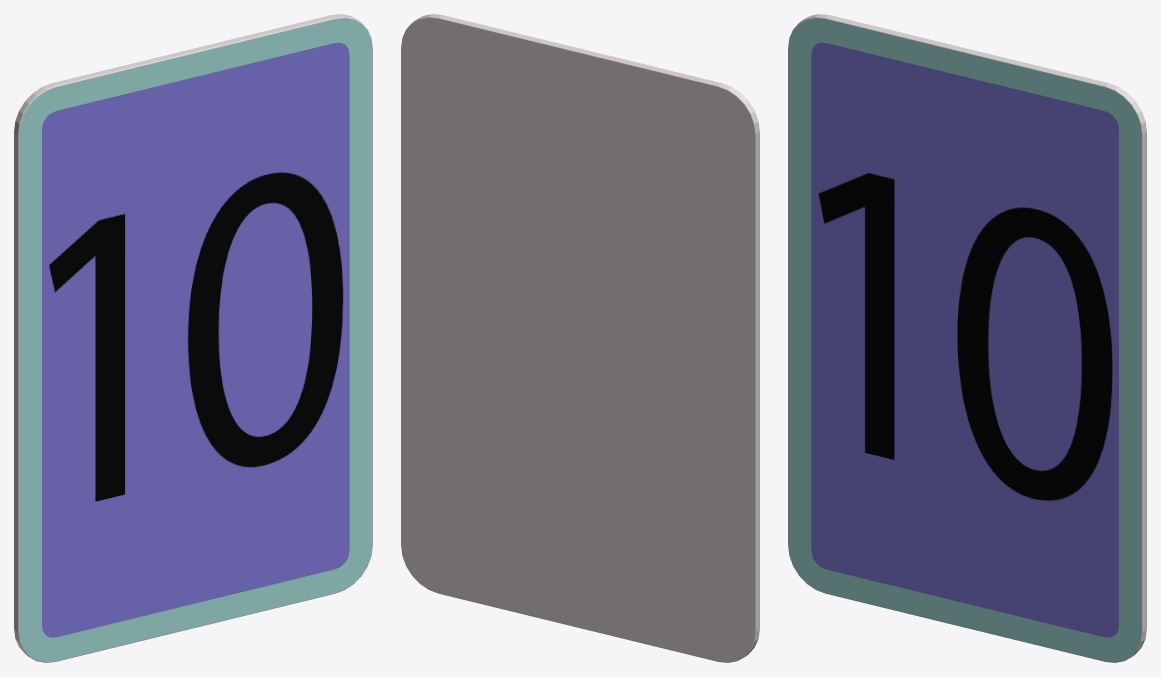
The model's file is Clubs_10.fbx.
3 views of the same model, side by side, from view 1: azimuth 30°, elevation 25°; view 2: azimuth 150°, elevation 25°; view 3: azimuth 330°, elevation 25° (orthographic).
Parts seen in each view (by area): view 1: bleu10; view 2: bleu10; view 3: bleu10.
Part boxes in pixels (<box>): bleu10: <box>14,14,372,662</box>; bleu10: <box>401,14,759,662</box>; bleu10: <box>788,14,1146,662</box>.
Bounding box in the file's own units: 200 × 310 × 4.34.
Materials: 3 (1 with a texture image).
